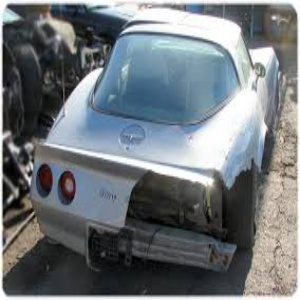bumper: (122, 183, 243, 276)
